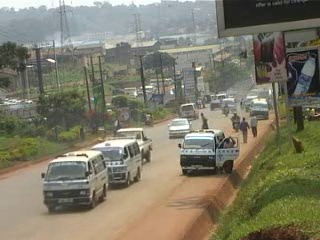Car: (165, 116, 194, 139), (208, 98, 224, 110)
Motorcycle: (232, 119, 241, 133), (222, 108, 229, 117)
